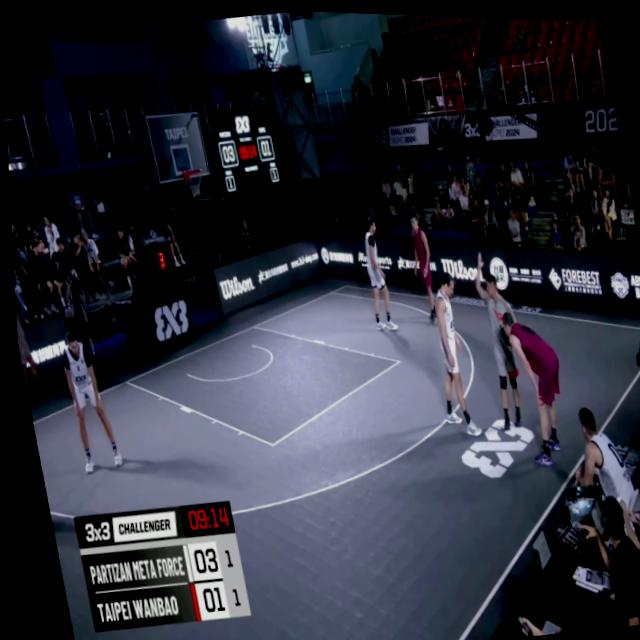ball: (494, 319, 508, 343)
hoop: (178, 161, 208, 200)
player: (496, 298, 573, 469), (53, 325, 120, 474), (418, 267, 474, 423), (350, 208, 397, 338), (404, 207, 441, 326)
